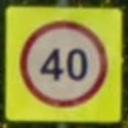speed_limit_40: (16, 16, 114, 110)
